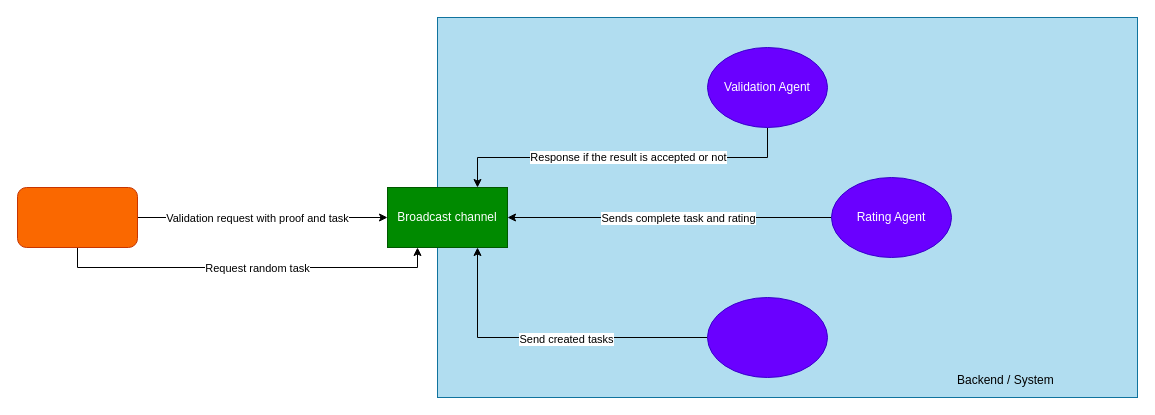
Some shapes in this 1155 by 415 pixel diagram are drawn without their labels. The shapes that lost their labels are listed below. From the top down, each one's box as (x1, y1, x2, y2) in pixels, then its label:
(16, 186, 138, 248): Client (Frontend)
(706, 296, 828, 378): Creation Agent
